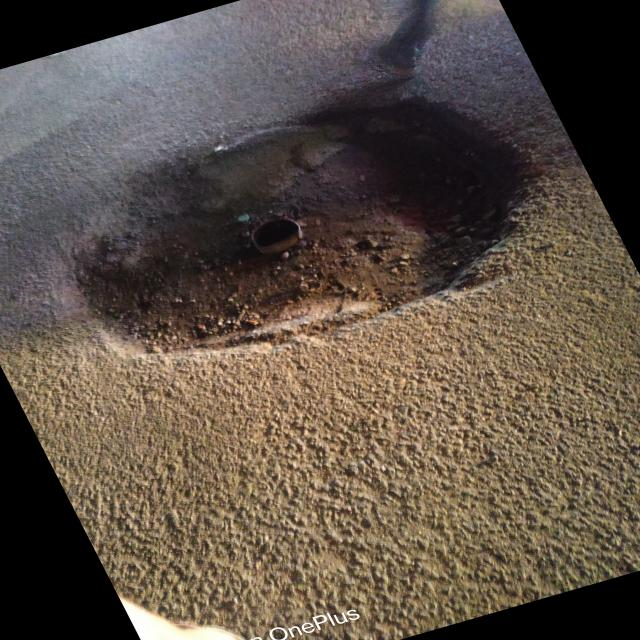potholes: (22, 80, 558, 363)
